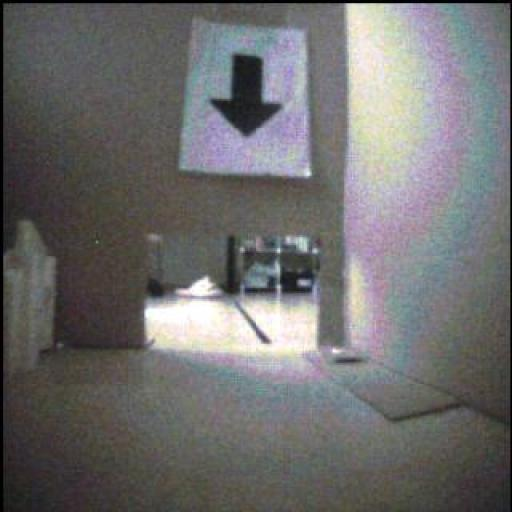arrow: (212, 55, 283, 137)
